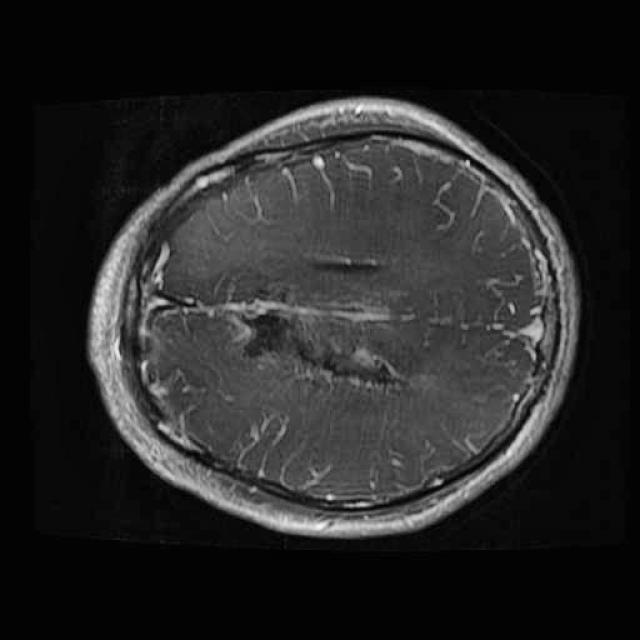Tumor: (208, 241, 432, 400)
